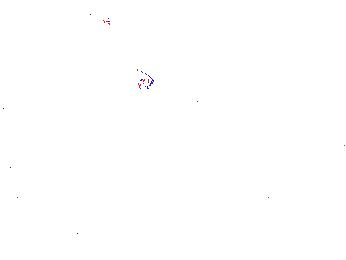glassfish: (81, 6, 206, 72)
red belly glassfish: (129, 67, 156, 89)
